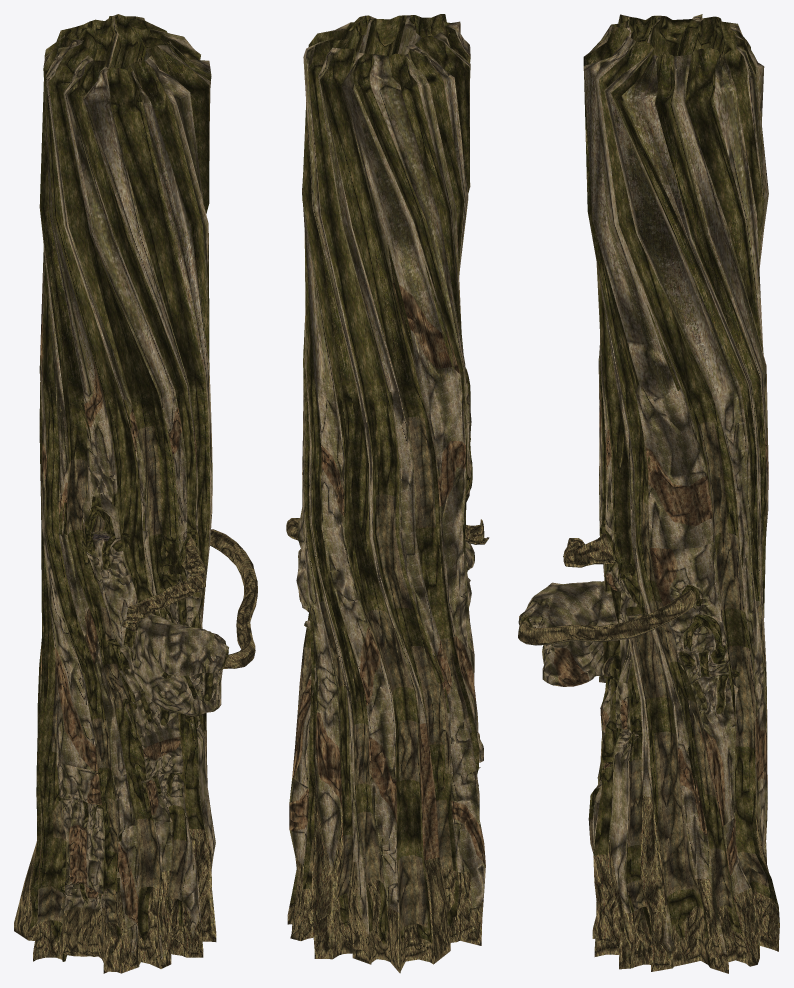
3 views of the same model, side by side, from view 1: azimuth 30°, elevation 25°; view 2: azimuth 150°, elevation 25°; view 3: azimuth 270°, elevation 25° (orthographic).
Parts seen in each view (by area): view 1: mesh2, mesh1, mesh6, mesh7, mesh9, mesh11, mesh8, mesh5; view 2: mesh2, mesh1, mesh9, mesh11, mesh7, mesh8, mesh5, mesh6; view 3: mesh1, mesh2, mesh9, mesh7, mesh6, mesh11, mesh8, mesh5.
Boxes of the visible parts, x1,y1,x2,y2 form: mesh2: (28,14,228,943); mesh1: (37,15,215,960); mesh6: (58,445,228,854); mesh7: (14,529,257,973); mesh9: (37,426,210,928); mesh11: (38,273,196,925); mesh8: (28,829,216,973); mesh5: (40,14,228,961); mesh2: (289,14,480,944); mesh1: (289,14,485,933); mesh9: (297,417,478,936); mesh11: (289,283,485,865); mesh7: (286,518,487,973); mesh8: (287,868,459,972); mesh5: (301,14,472,919); mesh6: (304,402,483,787); mesh1: (583,14,768,954); mesh2: (521,14,778,967); mesh9: (588,421,768,910); mesh7: (518,532,770,973); mesh6: (518,348,736,816); mesh11: (553,391,768,875); mesh8: (592,854,779,968); mesh5: (526,16,759,885).
Bounding box in the file's own units: 48.93 × 208 × 54.49.
